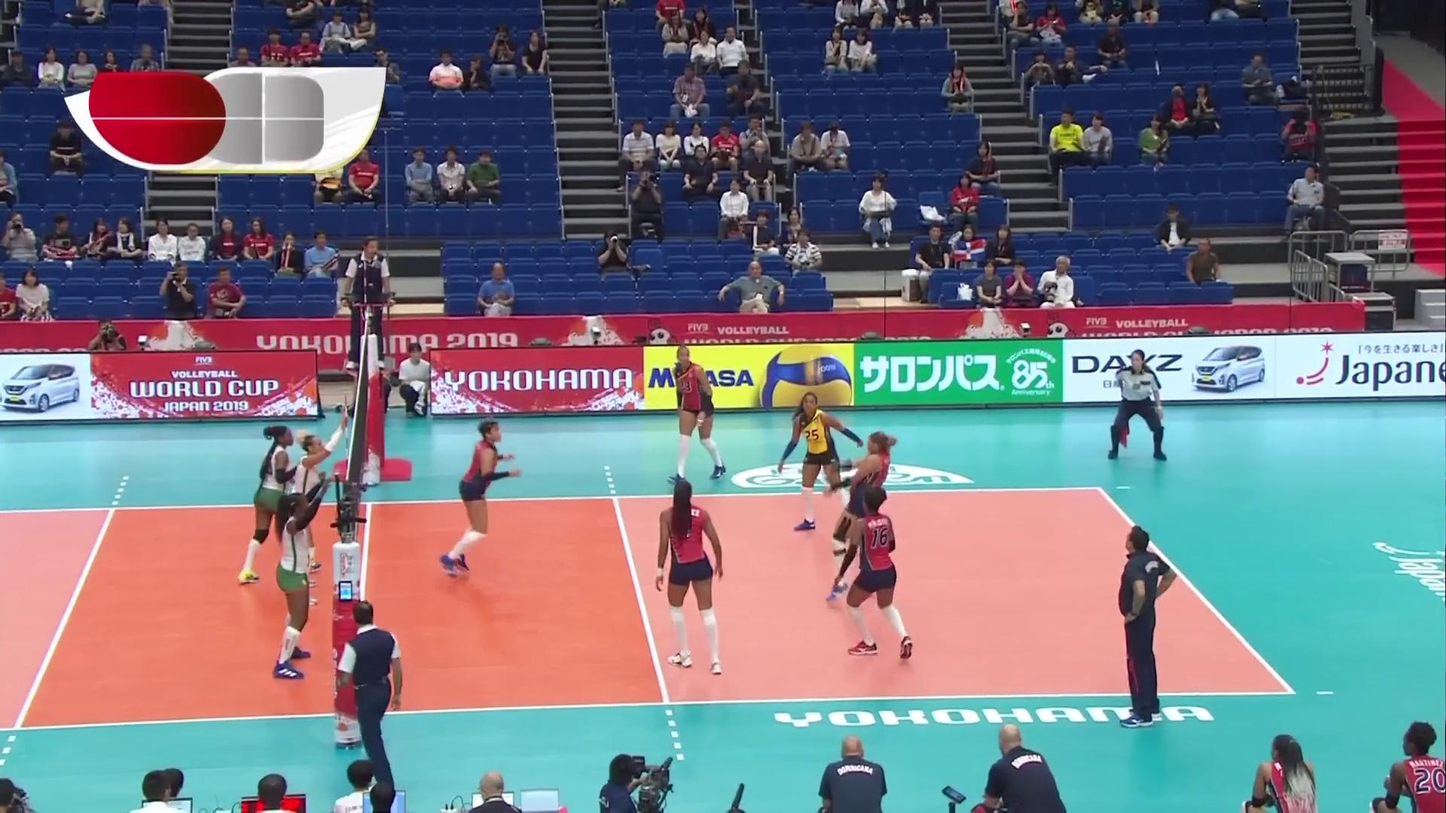player: (821, 495, 908, 661), (648, 485, 723, 675), (776, 391, 861, 545), (268, 487, 335, 679), (821, 431, 905, 578), (444, 419, 521, 578), (289, 411, 347, 605), (236, 425, 301, 586), (666, 341, 727, 485)
refree: (330, 603, 405, 798), (1106, 342, 1166, 460), (342, 232, 392, 370)
